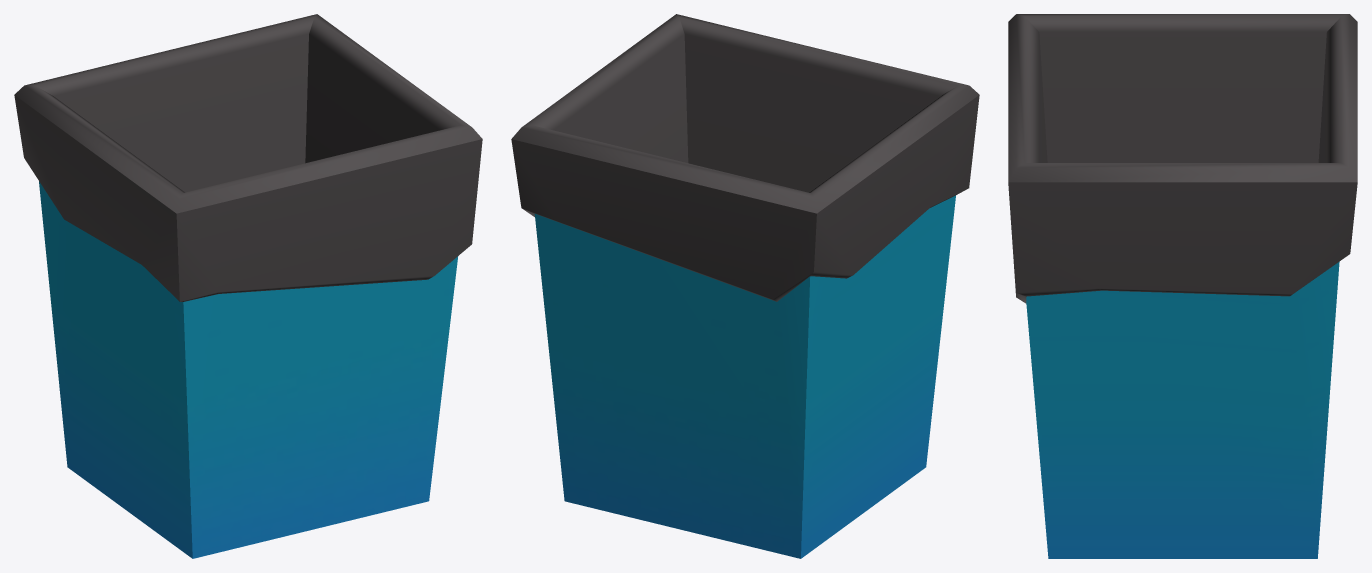
File: SM_Trash_Can_1_09.fbx
The picture shows the model from 3 angles, left to right: view 1: azimuth 30°, elevation 25°; view 2: azimuth 150°, elevation 25°; view 3: azimuth 270°, elevation 25°; orthographic projection. The views are drawn at different scales.
Parts seen in each view (by area): view 1: SM_Trash_Can_1_09; view 2: SM_Trash_Can_1_09; view 3: SM_Trash_Can_1_09.
Part boxes in pixels (x1,y1,x2,y2): SM_Trash_Can_1_09: [14, 14, 482, 558]; SM_Trash_Can_1_09: [511, 14, 979, 558]; SM_Trash_Can_1_09: [1008, 14, 1357, 558].
Size of the model in its own units: 46.84 by 55.4 by 43.09.
